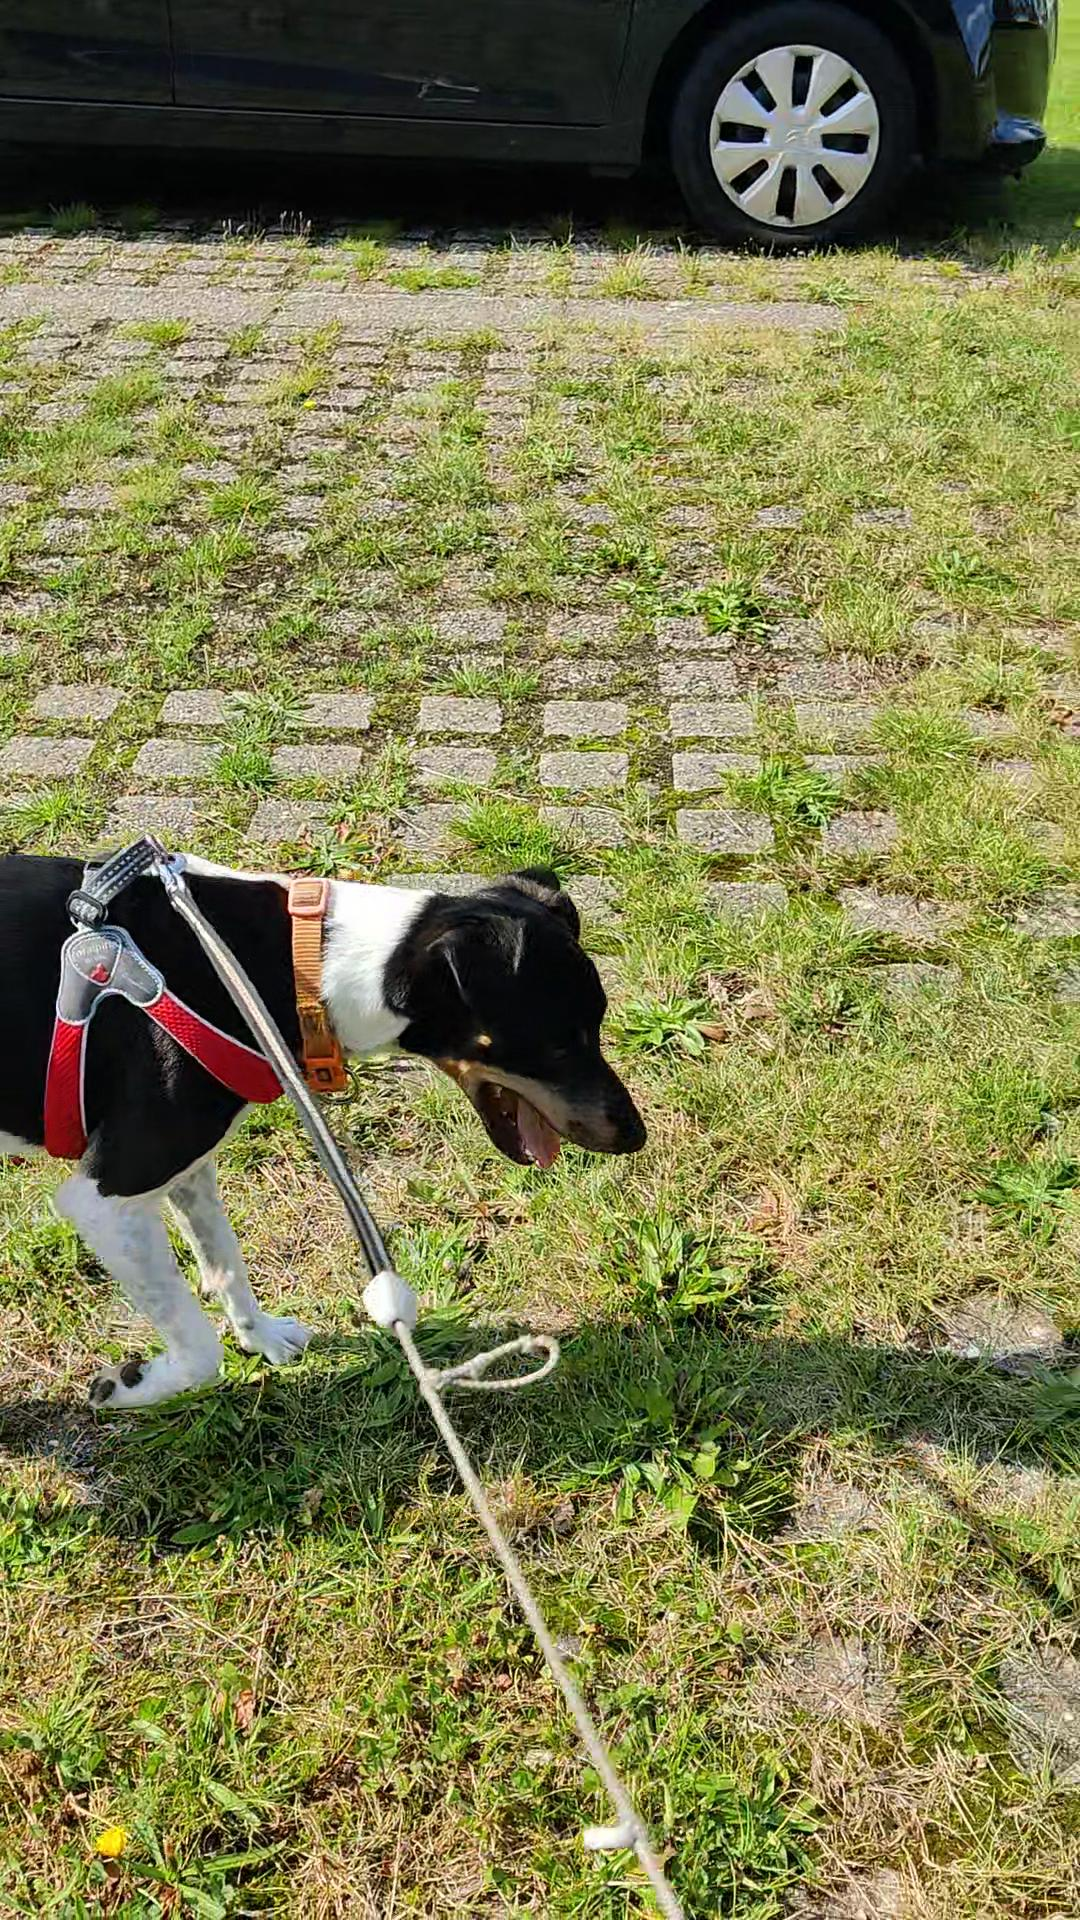Dog: (0, 814, 655, 1433)
